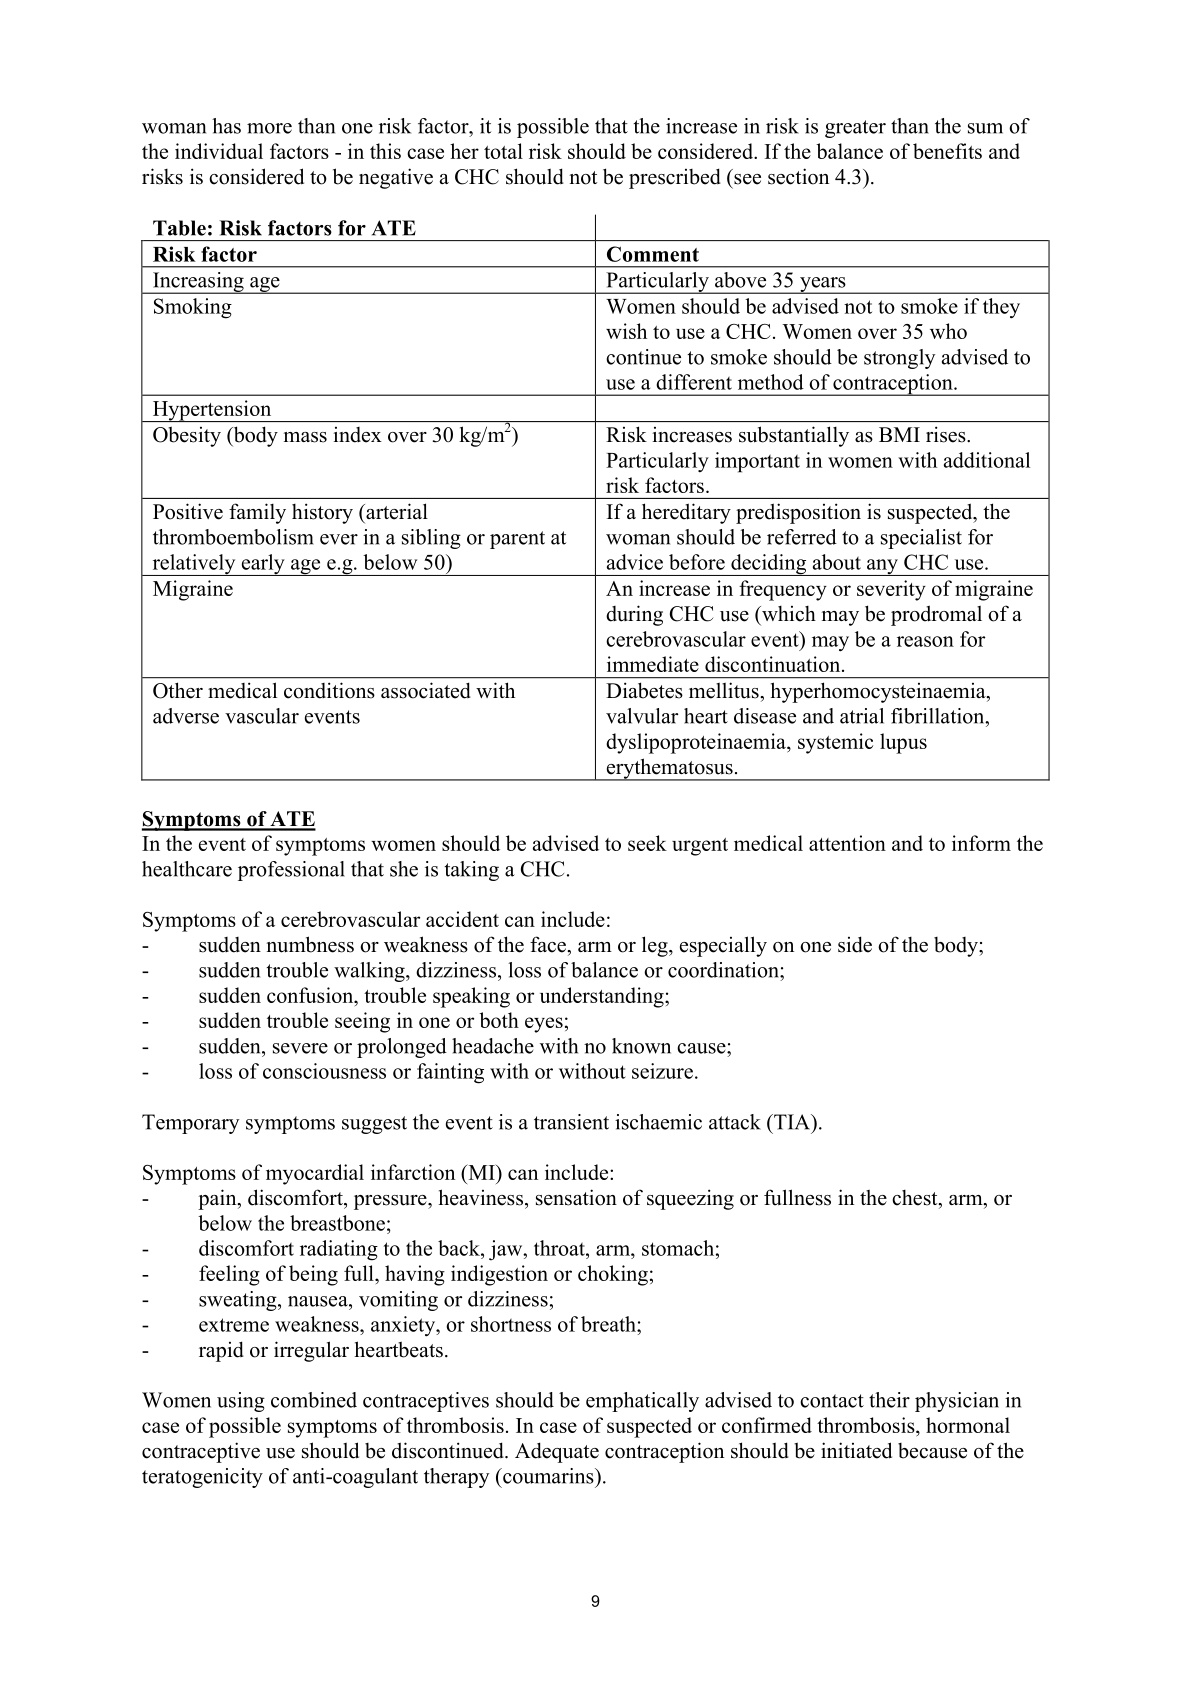full_lined: (139, 238, 1051, 782)
